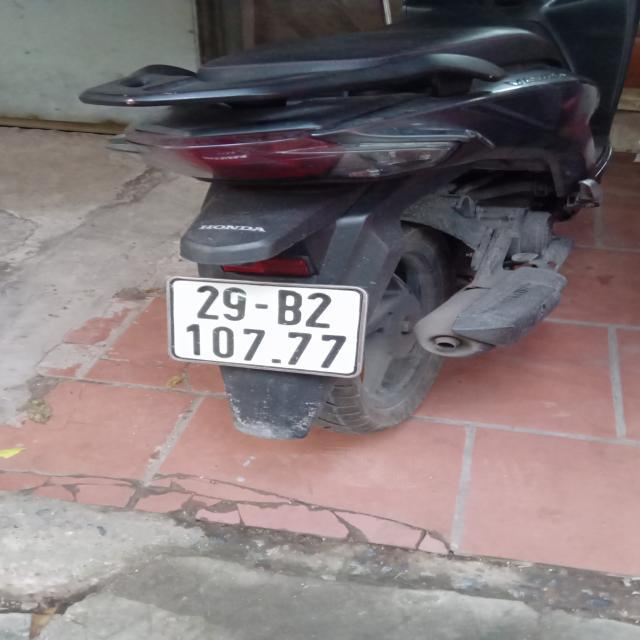license: (165, 275, 367, 379)
